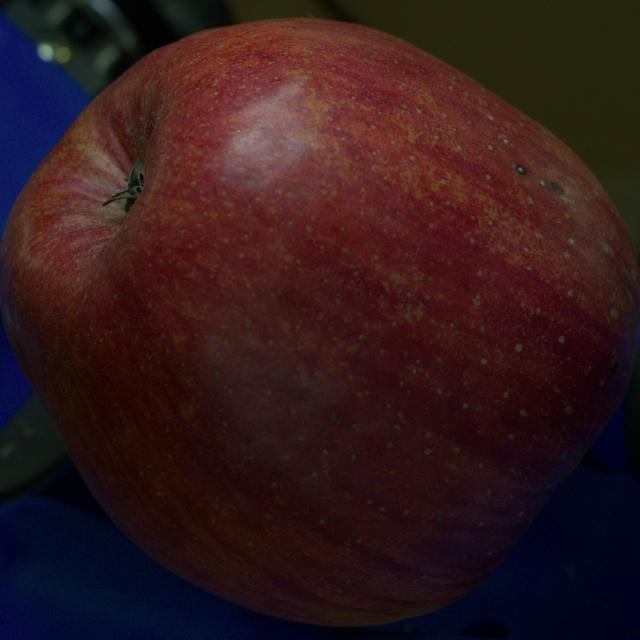apple: (0, 19, 639, 626)
pest: (548, 182, 564, 194), (514, 165, 526, 174)
